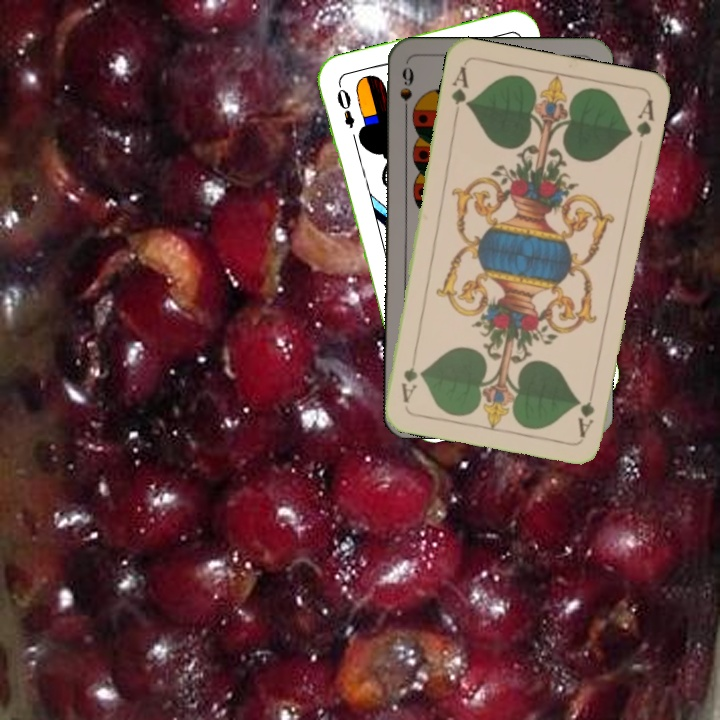EO: (333, 79, 358, 131)
GA: (447, 63, 472, 121), (574, 381, 598, 439)
S9: (396, 64, 416, 122)
